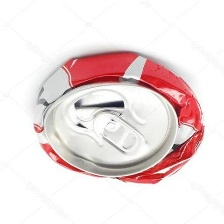can: (30, 44, 211, 187)
